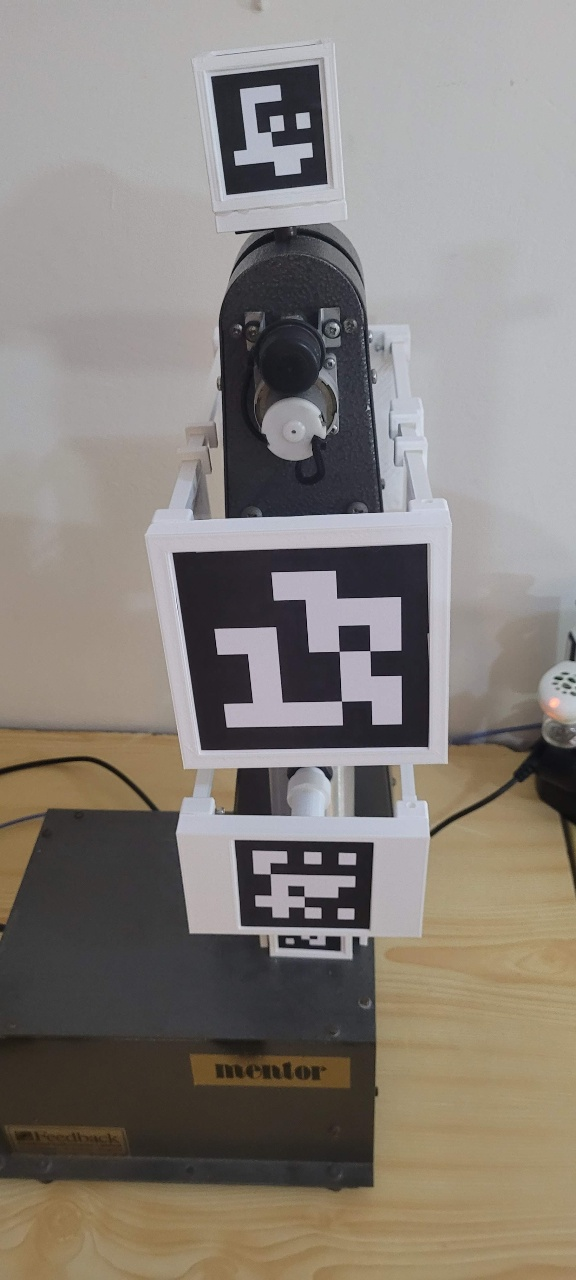Robot: (147, 39, 457, 963)
